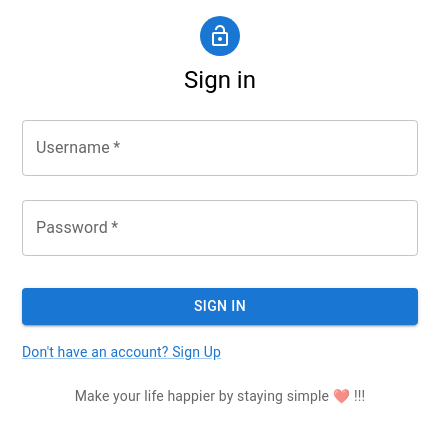
Scenario: SignIn and DashboardOverview › should display validation error when fields are empty
Click the submit button at (220, 307), box [22,288,418,325]
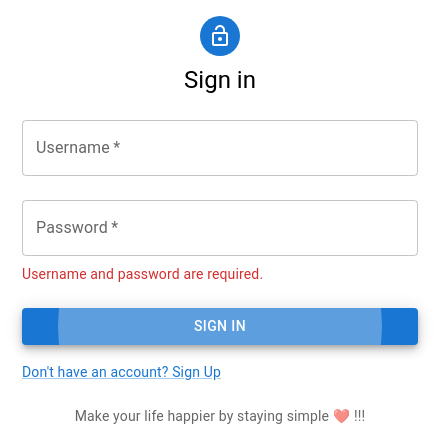
Now the text "Username and password are required." is shown, box [22,266,263,282]
